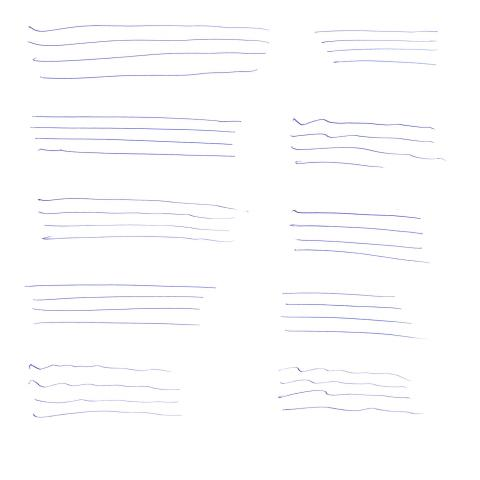Paragraph: (28, 23, 272, 80), (34, 196, 241, 244), (29, 114, 242, 160), (285, 116, 450, 171), (26, 362, 186, 418), (21, 282, 215, 326), (289, 209, 431, 264), (273, 365, 425, 414), (278, 292, 422, 340), (314, 27, 442, 67)
